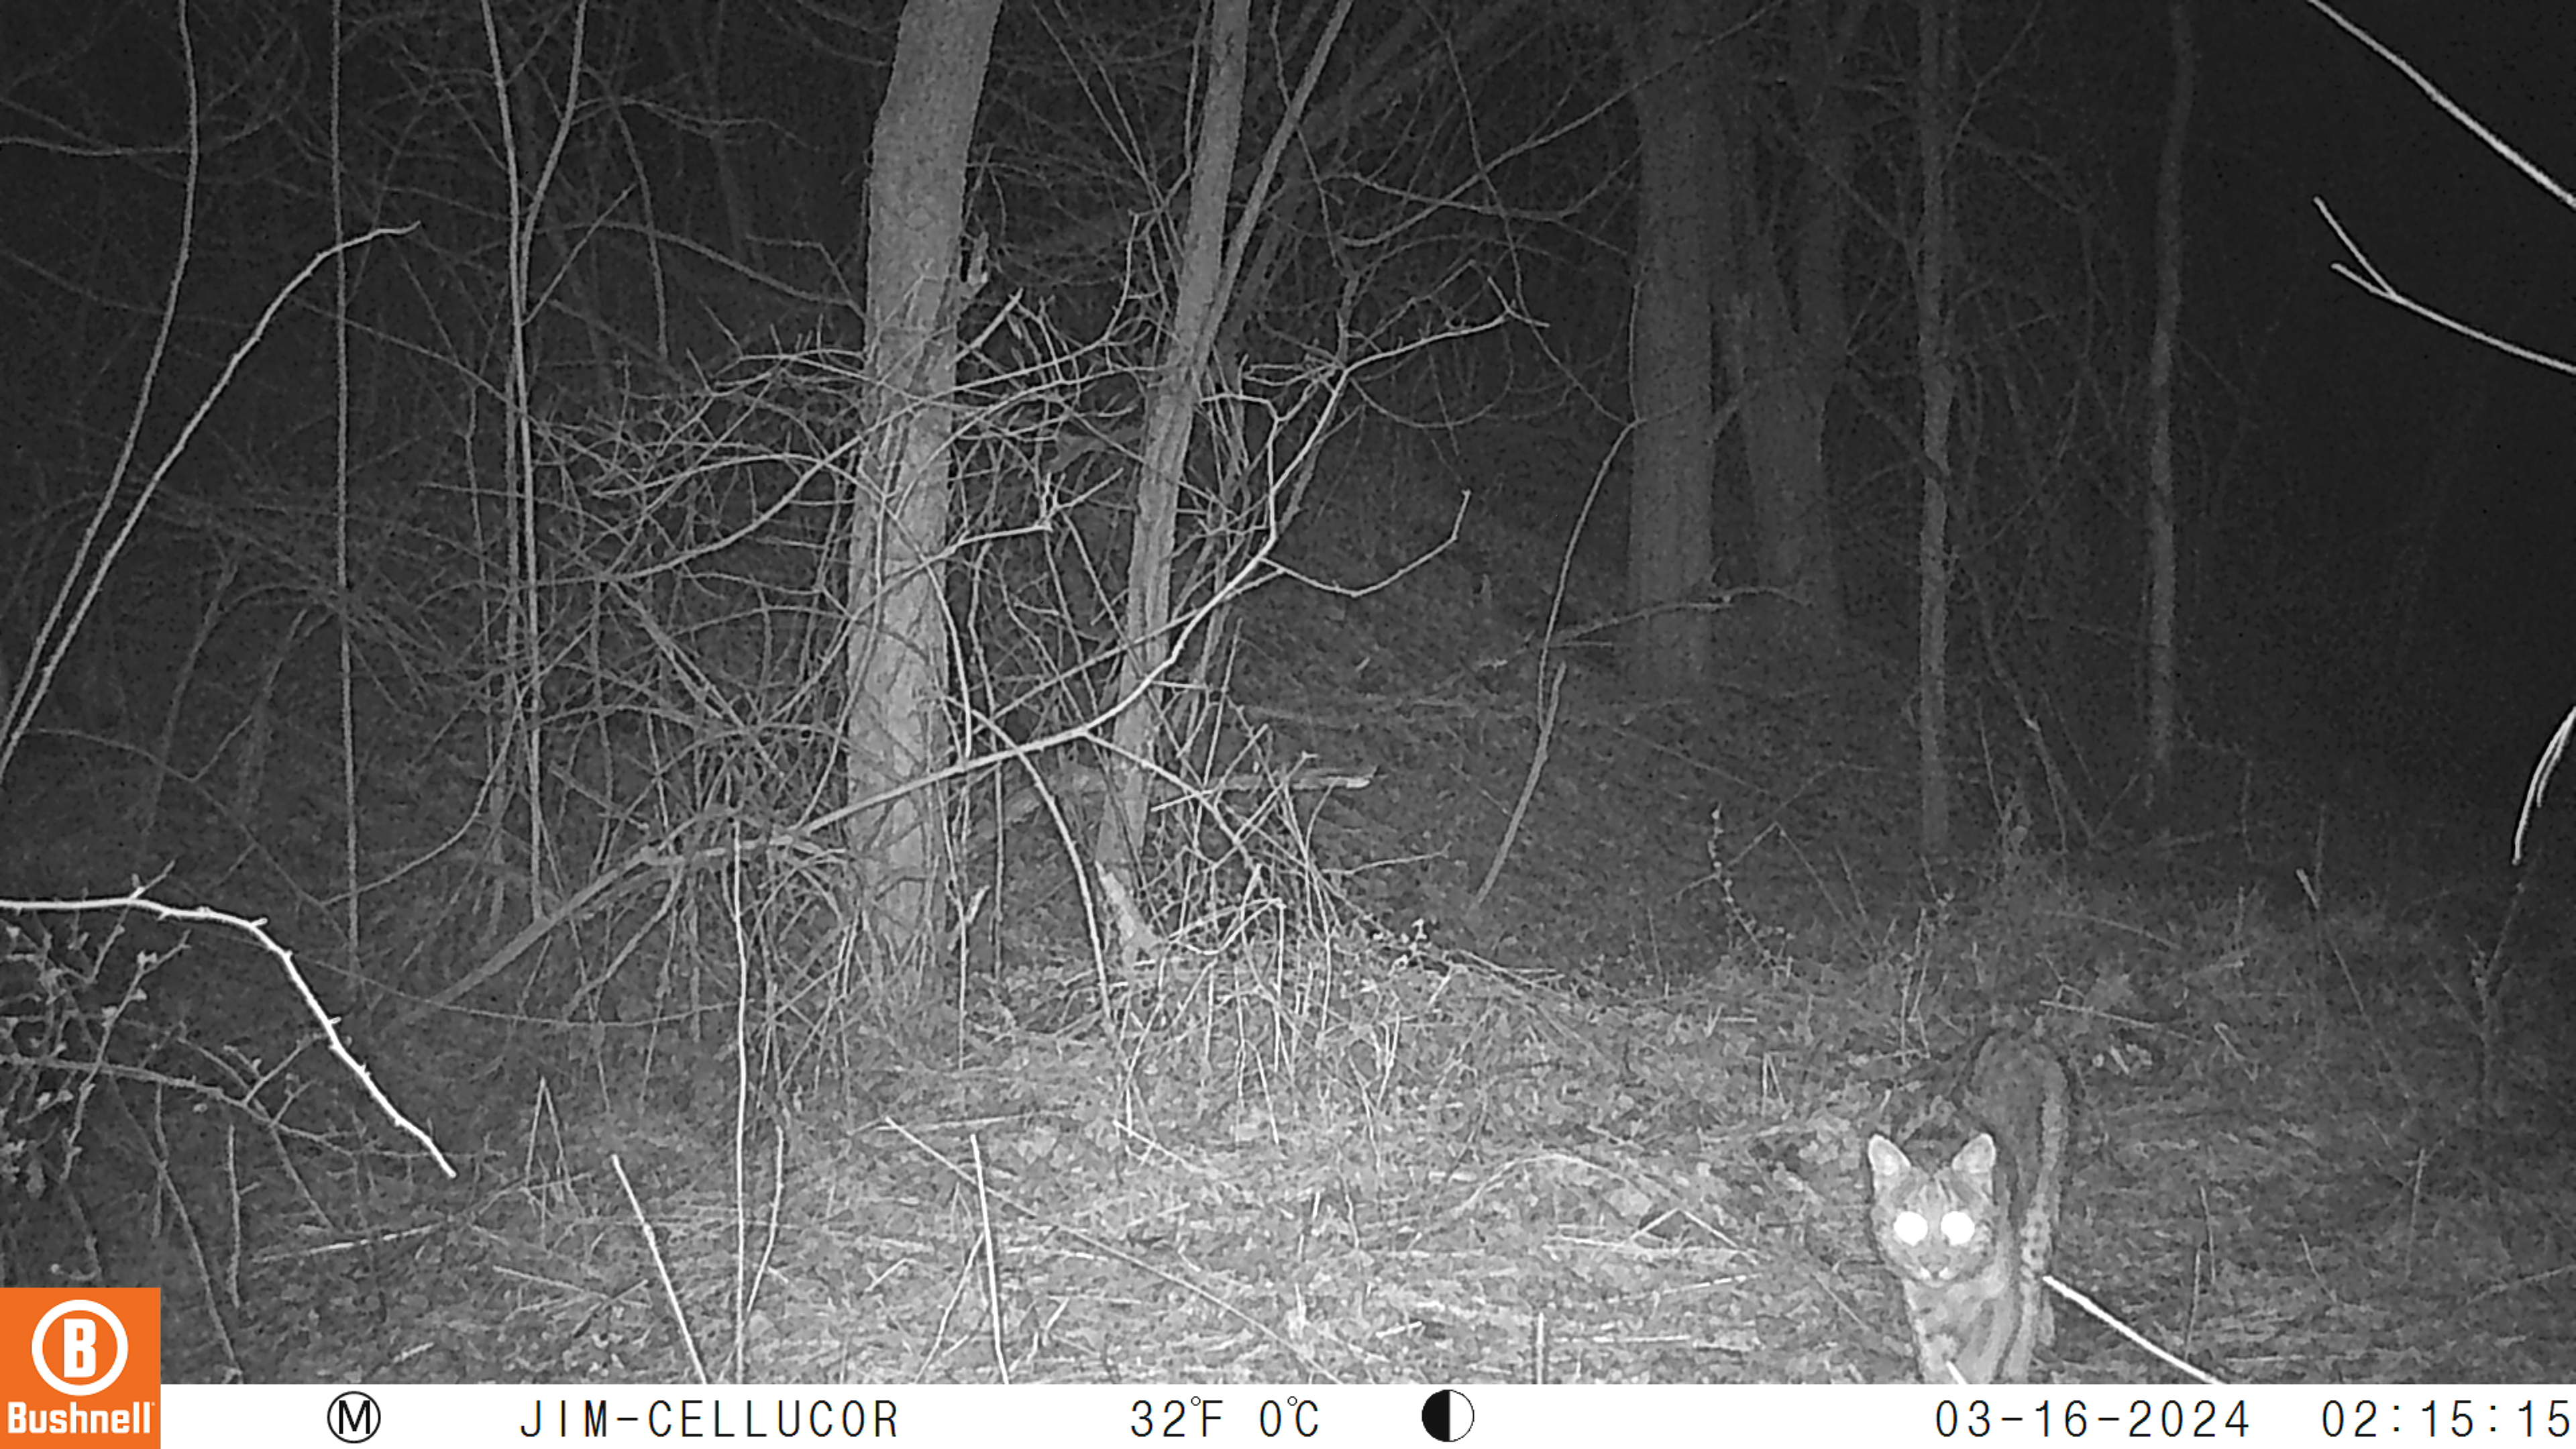Bobcat: (1863, 1021, 2077, 1382)
